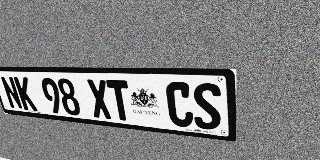8: (56, 78, 82, 116)
9: (39, 78, 65, 114)
C: (165, 82, 194, 128)
K: (13, 77, 38, 111)
N: (0, 76, 24, 110)
S: (192, 83, 221, 131)
T: (106, 80, 133, 121)
X: (86, 79, 113, 119)
